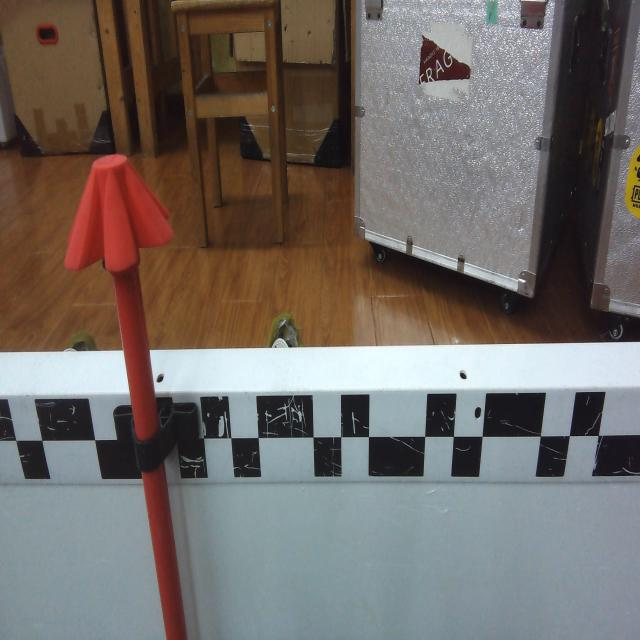zred-Stake-Head: (65, 153, 174, 272)
